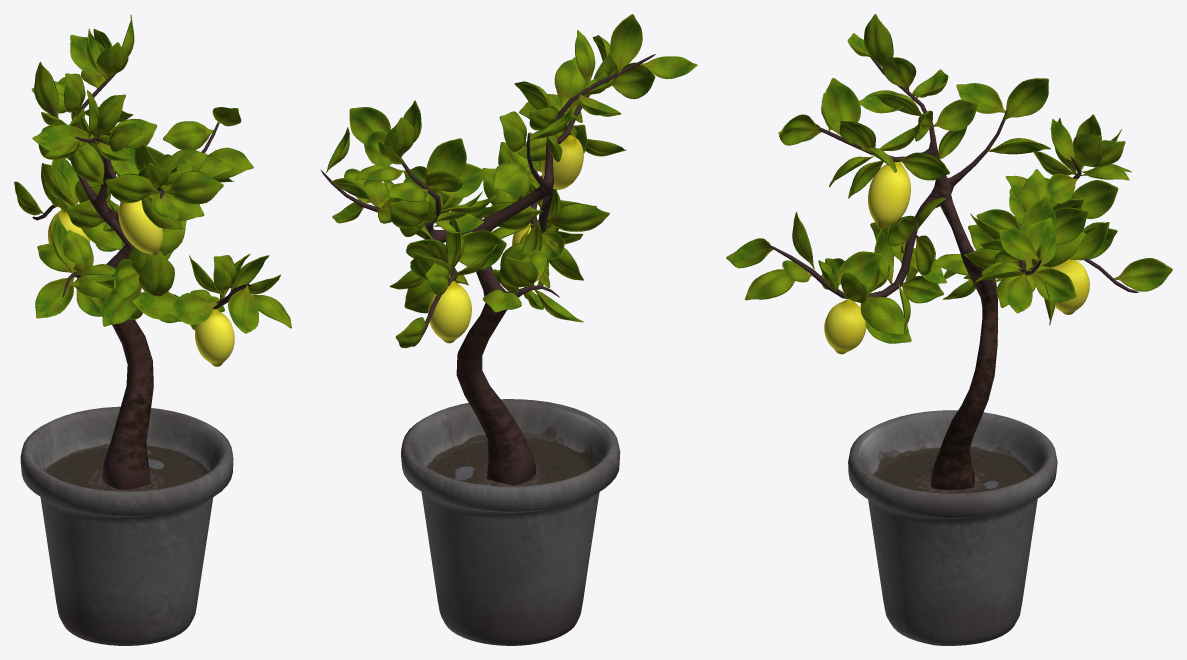
File: Finished_Lemon_Tree_Test.fbx
3 views of the same model, side by side, from view 1: azimuth 30°, elevation 25°; view 2: azimuth 150°, elevation 25°; view 3: azimuth 270°, elevation 25° (orthographic). The views are drawn at different scales.
Parts seen in each view (by area): view 1: Pot, Bark, Lemon, Lemon2, Bark|Leaf|Dupli|16, Bark|Leaf|Dupli|52, Bark|Leaf|Dupli|96, Bark|Leaf|Dupli|14, Bark|Leaf|Dupli|65, Bark|Leaf|Dupli|61, Bark|Leaf|Dupli|88, Bark|Leaf|Dupli|10 (+36 smaller); view 2: Pot, Bark, Lemon3, Bark|Leaf|Dupli|9, Lemon2, Bark|Leaf|Dupli|46, Bark|Leaf|Dupli|68, Bark|Leaf|Dupli|35, Bark|Leaf|Dupli|40, Bark|Leaf|Dupli|90, Bark|Leaf|Dupli|14, Bark|Leaf|Dupli|13 (+23 smaller); view 3: Pot, Bark, Lemon2, Lemon, Bark|Leaf|Dupli|23, Bark|Leaf|Dupli|55, Bark|Leaf|Dupli|92, Bark|Leaf|Dupli|77, Bark|Leaf|Dupli|31, Lemon3, Bark|Leaf|Dupli|66, Bark|Leaf|Dupli|64 (+25 smaller).
Part boxes in pixels (x1,y1,x2,y2): Pot: [20, 406, 233, 645]; Bark: [32, 74, 251, 489]; Lemon: [195, 309, 234, 366]; Lemon2: [118, 200, 162, 255]; Bark|Leaf|Dupli|16: [164, 171, 223, 204]; Bark|Leaf|Dupli|52: [138, 251, 174, 296]; Bark|Leaf|Dupli|96: [35, 275, 75, 318]; Bark|Leaf|Dupli|14: [105, 173, 159, 202]; Bark|Leaf|Dupli|65: [228, 285, 258, 333]; Bark|Leaf|Dupli|61: [172, 293, 217, 324]; Bark|Leaf|Dupli|88: [163, 121, 213, 149]; Bark|Leaf|Dupli|10: [32, 124, 96, 150]; Pot: [401, 399, 620, 645]; Bark: [320, 54, 655, 485]; Lemon3: [428, 281, 471, 343]; Bark|Leaf|Dupli|9: [610, 14, 642, 74]; Lemon2: [541, 135, 583, 189]; Bark|Leaf|Dupli|46: [547, 203, 609, 231]; Bark|Leaf|Dupli|68: [459, 230, 506, 269]; Bark|Leaf|Dupli|35: [426, 138, 466, 189]; Bark|Leaf|Dupli|40: [349, 107, 390, 143]; Bark|Leaf|Dupli|90: [493, 162, 530, 194]; Bark|Leaf|Dupli|14: [612, 62, 655, 99]; Bark|Leaf|Dupli|13: [554, 58, 587, 108]; Pot: [848, 410, 1057, 645]; Bark: [766, 56, 1139, 489]; Lemon2: [868, 161, 910, 229]; Lemon: [824, 299, 866, 354]; Bark|Leaf|Dupli|23: [822, 78, 860, 132]; Bark|Leaf|Dupli|55: [860, 296, 904, 335]; Bark|Leaf|Dupli|92: [1004, 78, 1048, 120]; Bark|Leaf|Dupli|77: [1114, 258, 1172, 291]; Bark|Leaf|Dupli|31: [1070, 180, 1118, 218]; Lemon3: [1050, 259, 1089, 314]; Bark|Leaf|Dupli|66: [1029, 268, 1076, 302]; Bark|Leaf|Dupli|64: [745, 269, 794, 300].
Bounding box in the file's own units: 36.94 × 74.98 × 53.25.
